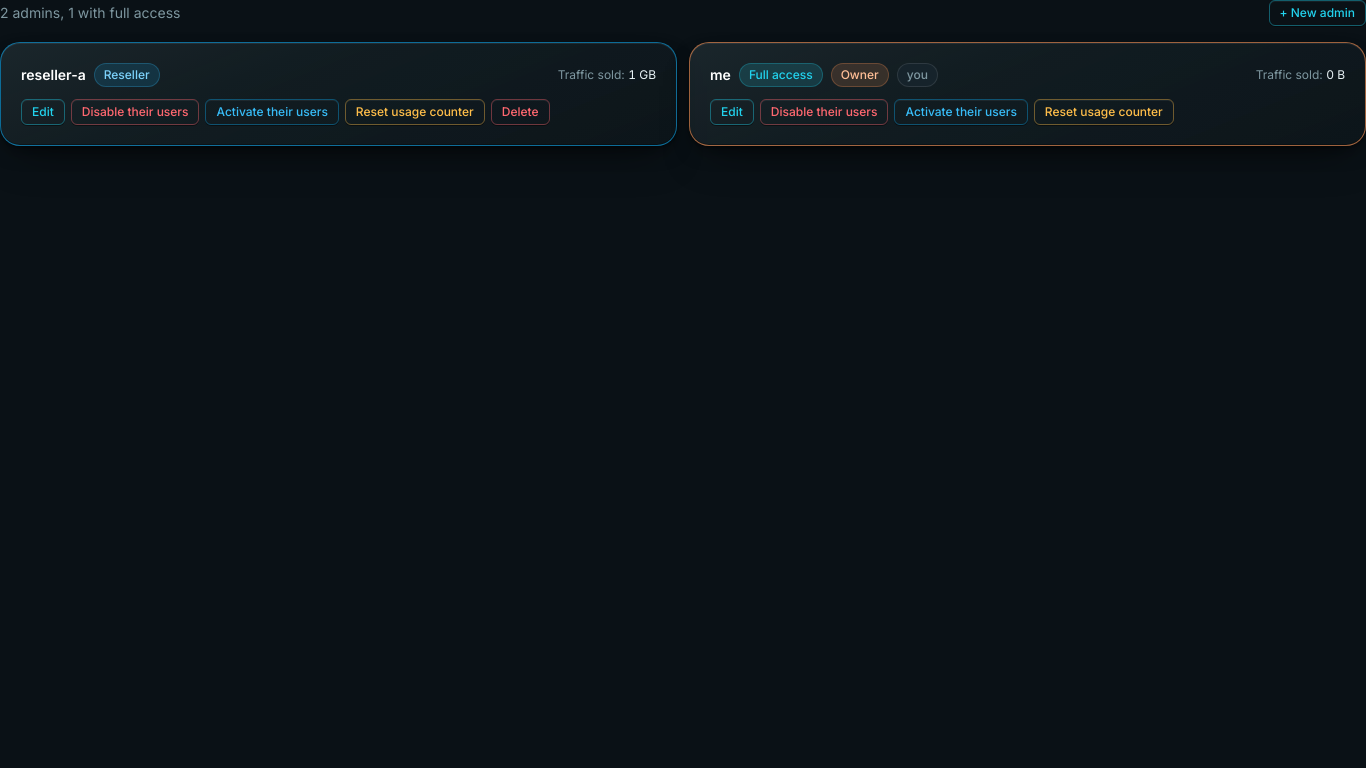
it: the admin form › keeps a Telegram ID typed on a Persian keyboard
Click the button "+ New admin".
click(1317, 13)  # box 1269,0 -> 1365,26
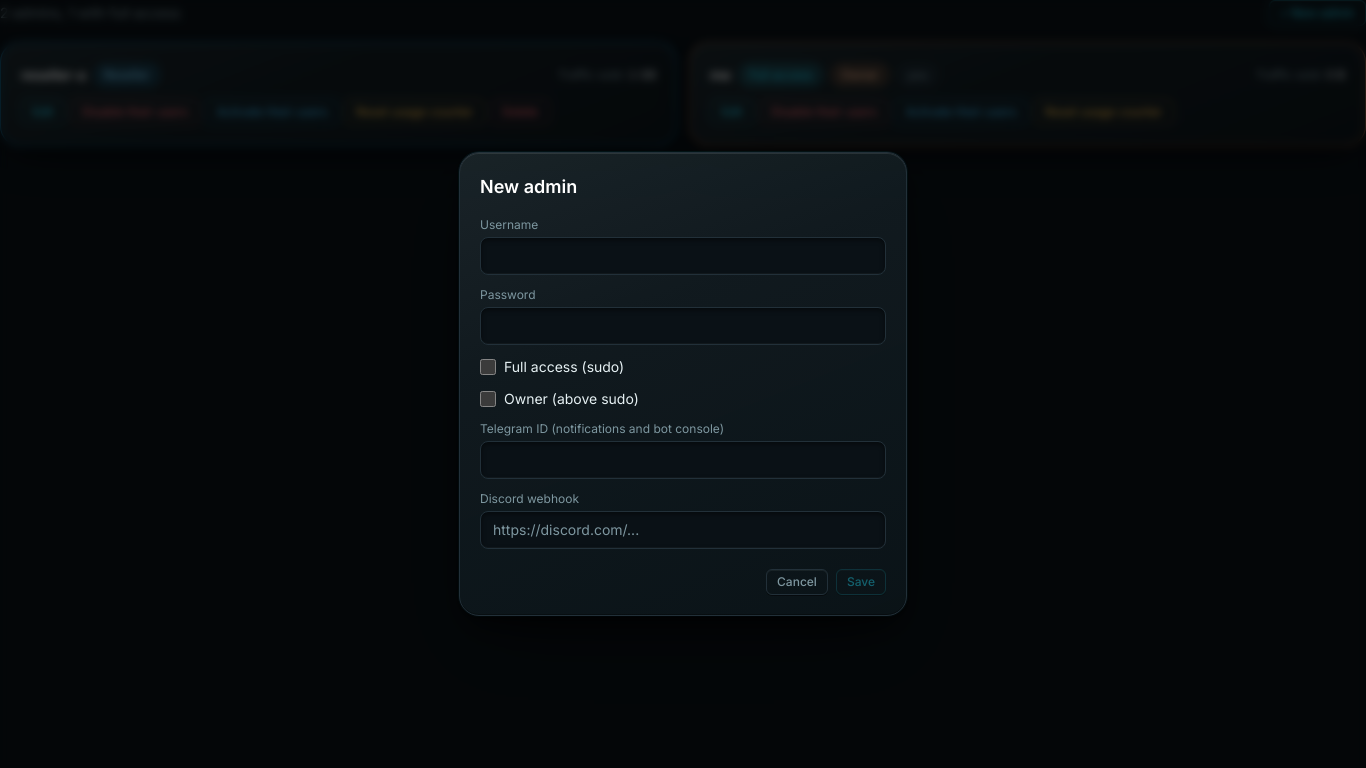
Type "۱۲۳۴۵" into the field labelled "Telegram ID (notifications and bot console)".
click(683, 460); type("۱۲۳۴۵")  # box 480,441 -> 886,479
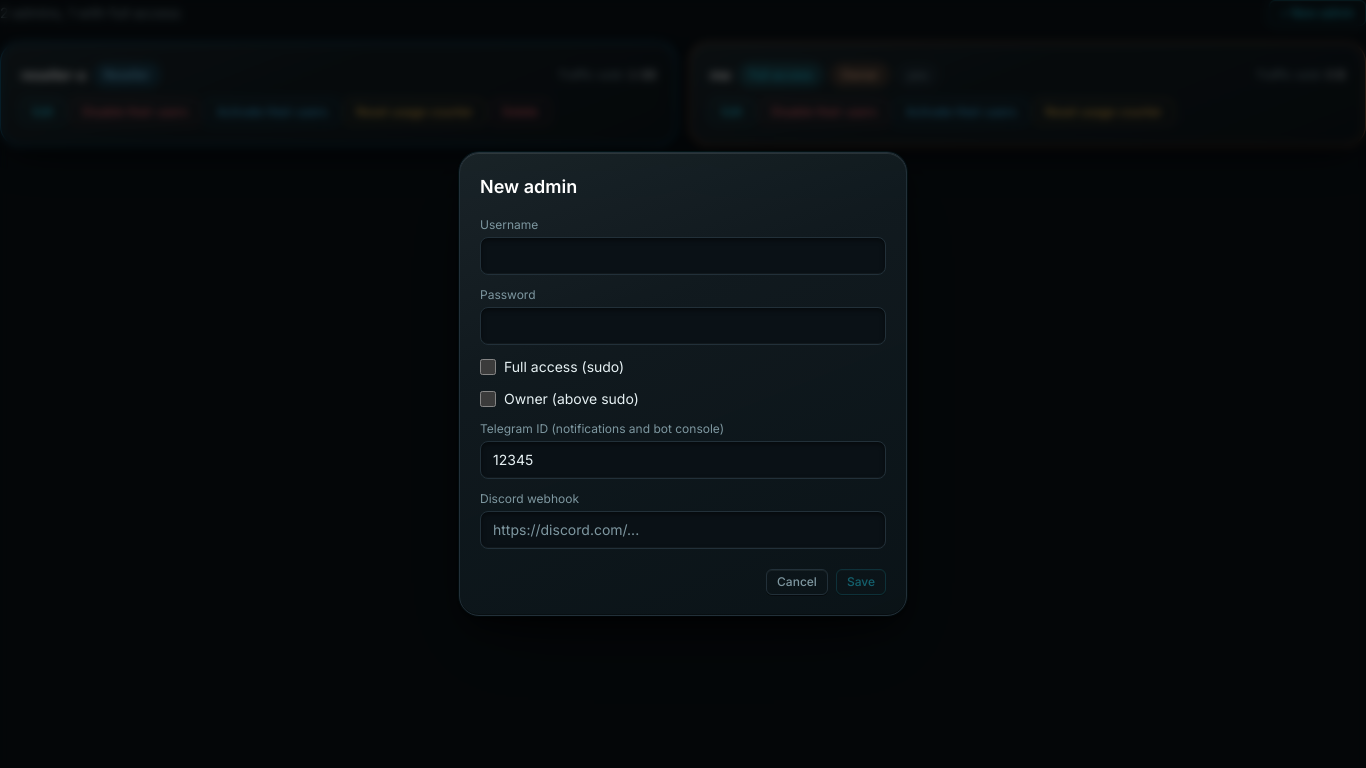
Expected: the field labelled "Telegram ID (notifications and bot console)" holds "12345"
Replace the text in the field labelled "Telegram ID (notifications and bot console)" with "-٦٧a" at (683, 460), box 480,441 -> 886,479
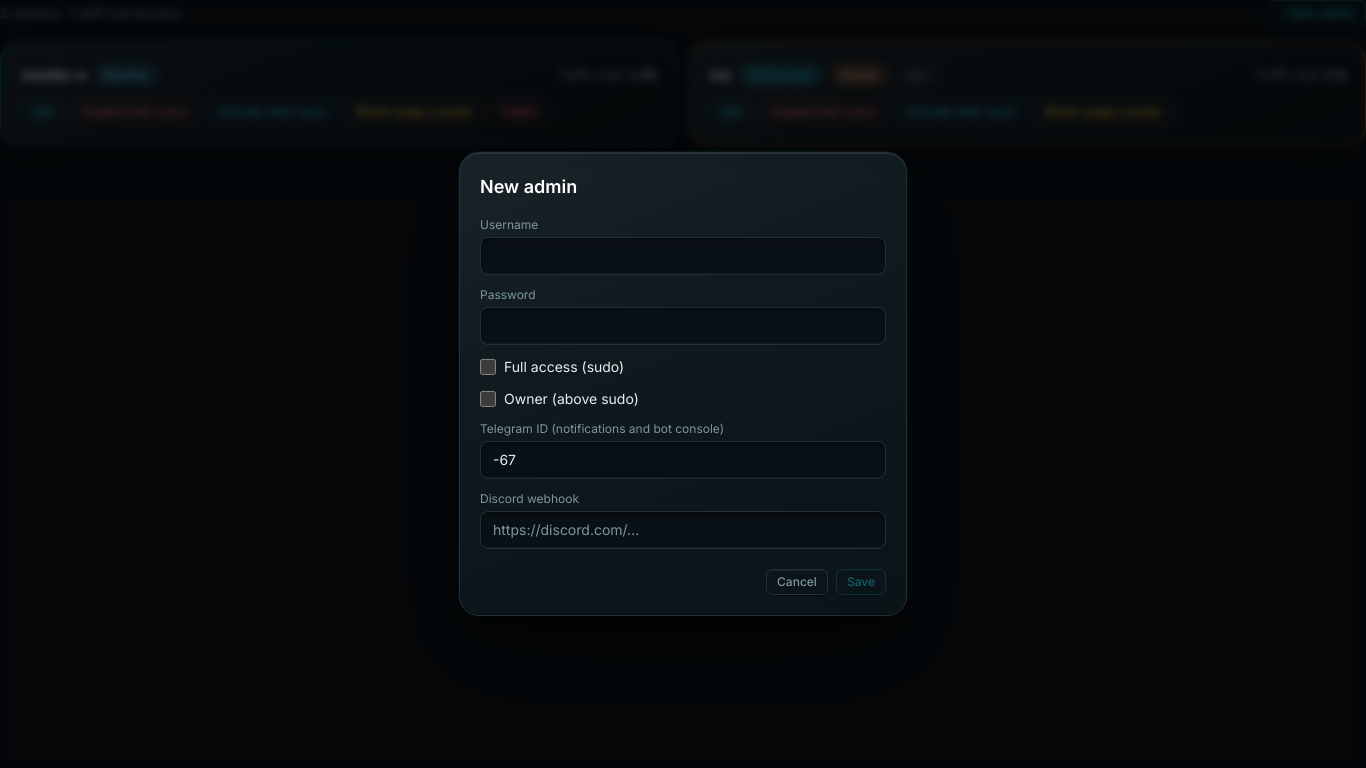
Expected: the field labelled "Telegram ID (notifications and bot console)" holds "-67", 480,441 -> 886,479
